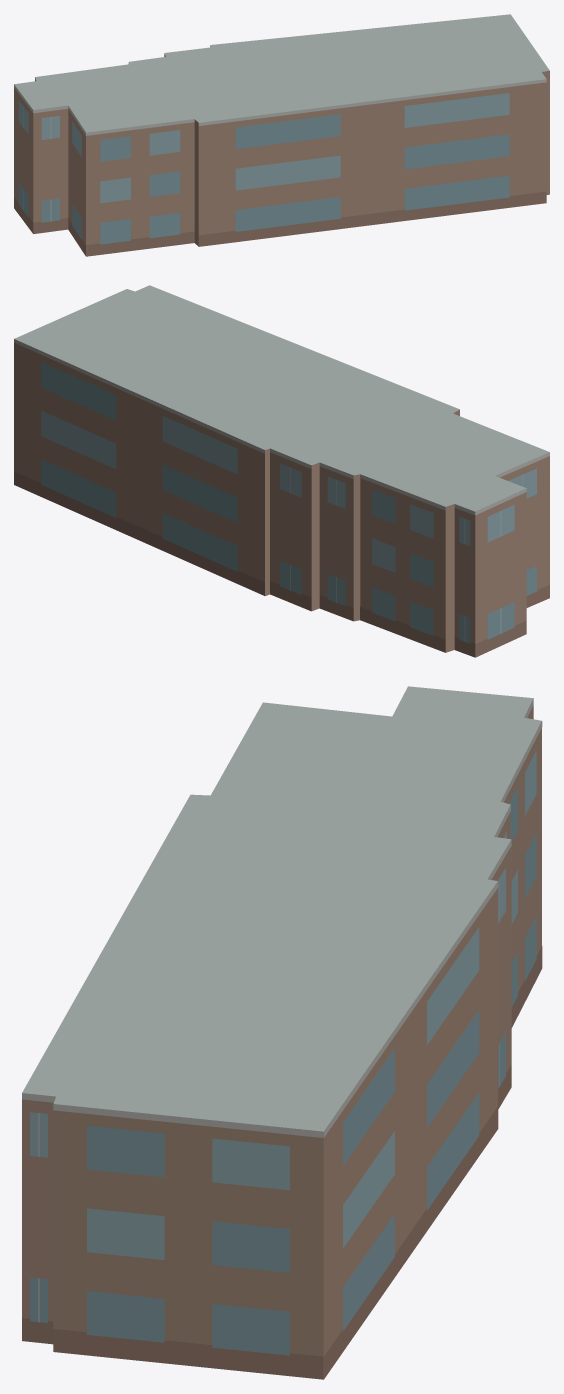
File: survey-upis-32921163.glb
The picture shows the model from 3 angles, top to bottom: view 1: azimuth 30°, elevation 25°; view 2: azimuth 150°, elevation 25°; view 3: azimuth 270°, elevation 25°; orthographic projection. The views are drawn at different scales.
Parts seen in each view (by area): view 1: survey-upis-32921163.tmp; view 2: survey-upis-32921163.tmp; view 3: survey-upis-32921163.tmp.
Boxes of the visible parts, bbox=[...] form: survey-upis-32921163.tmp: bbox=[14, 14, 549, 256]; survey-upis-32921163.tmp: bbox=[14, 285, 549, 657]; survey-upis-32921163.tmp: bbox=[22, 686, 542, 1379].
Bounding box in the file's own units: 36.21 × 9.4 × 17.88.
